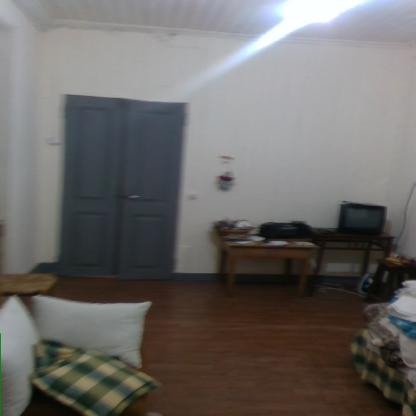closed: (53, 79, 198, 287)
